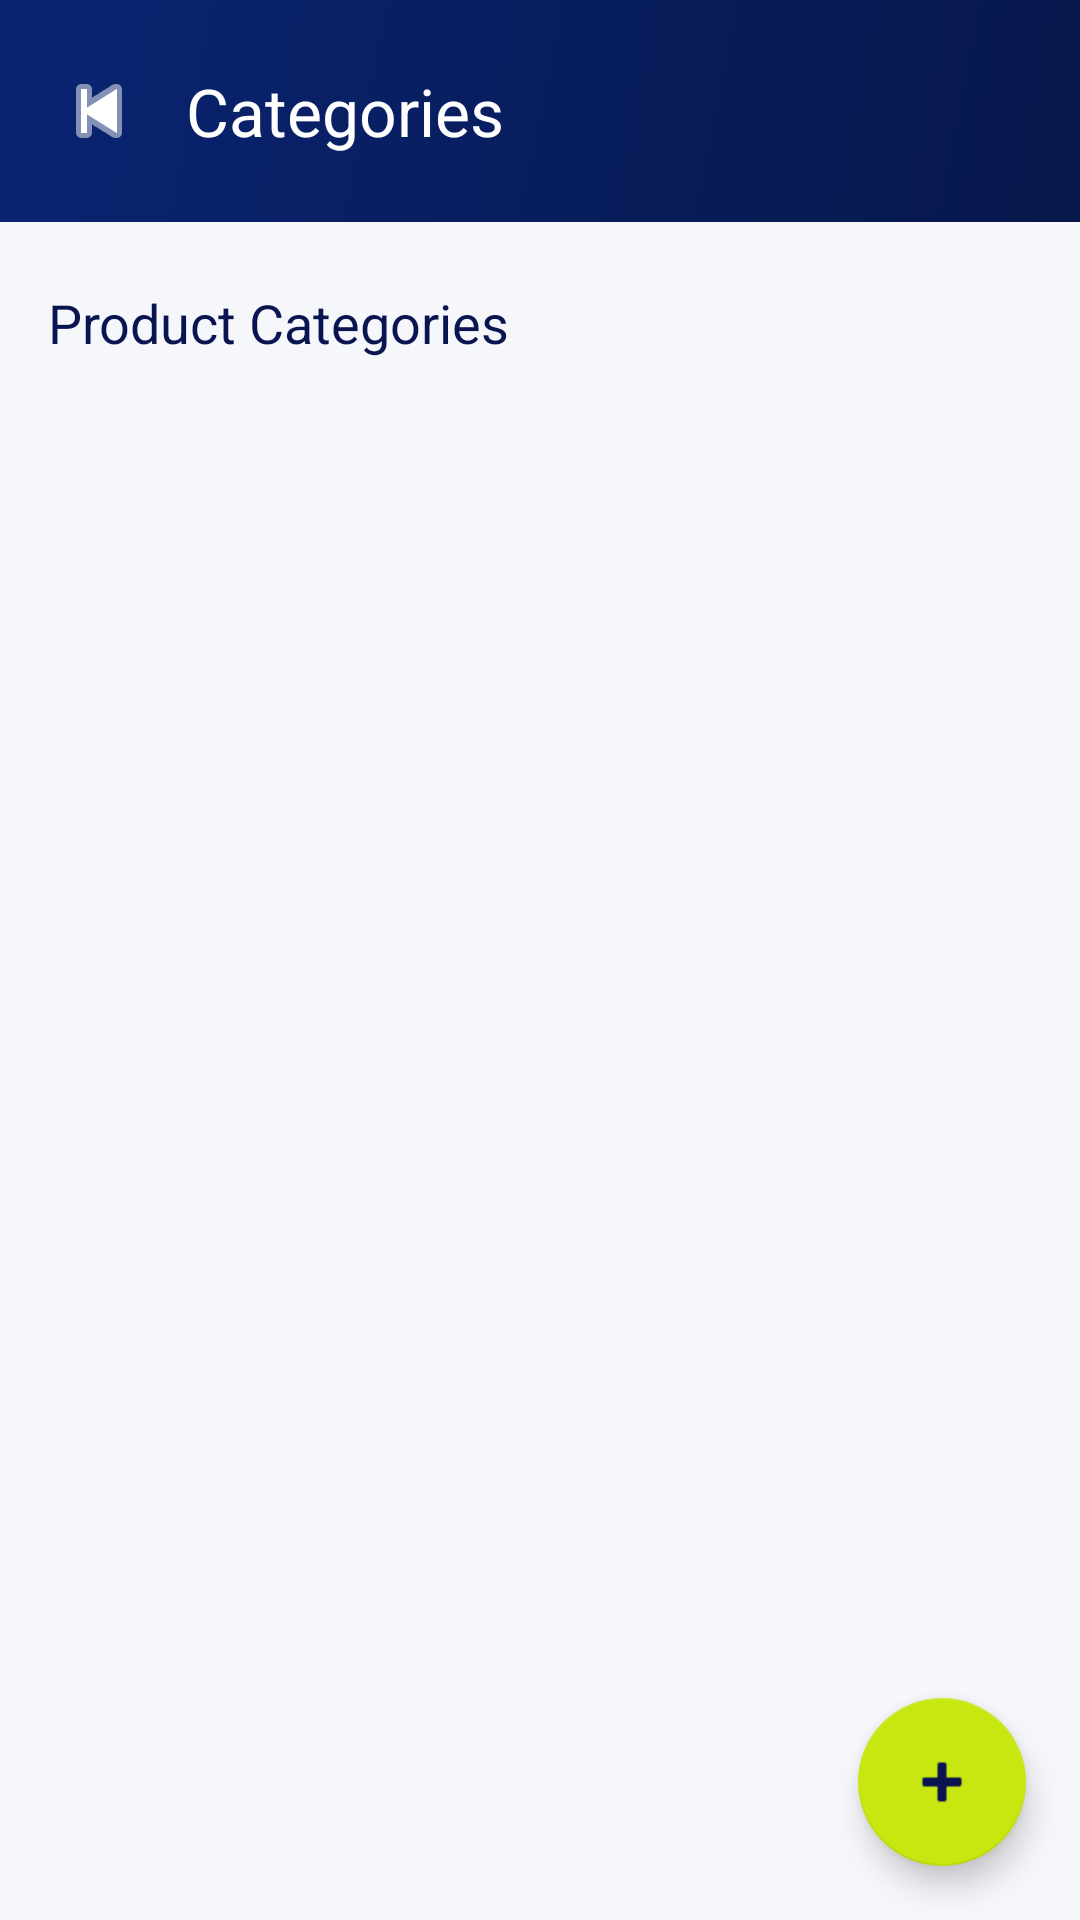

Icons on this 1080x1920 Android screen, each with its box as rect(x1, y1, x2, y2):
Add category: rect(858, 1698, 1026, 1866)
